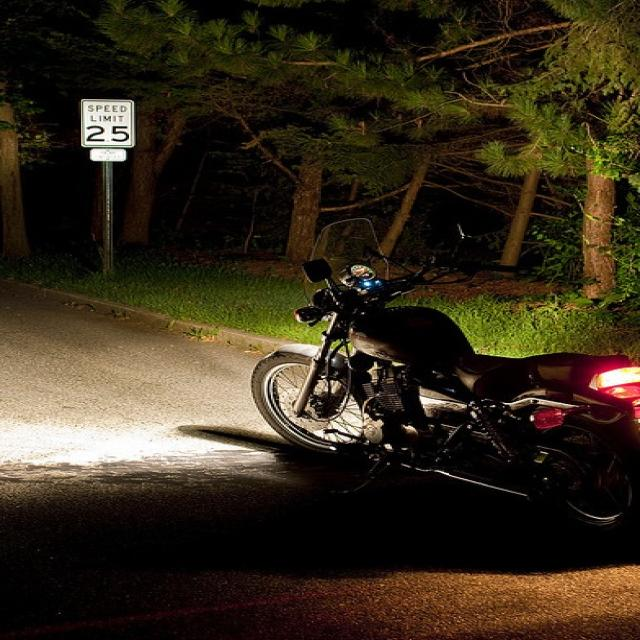Motorbike: (210, 249, 640, 542)
